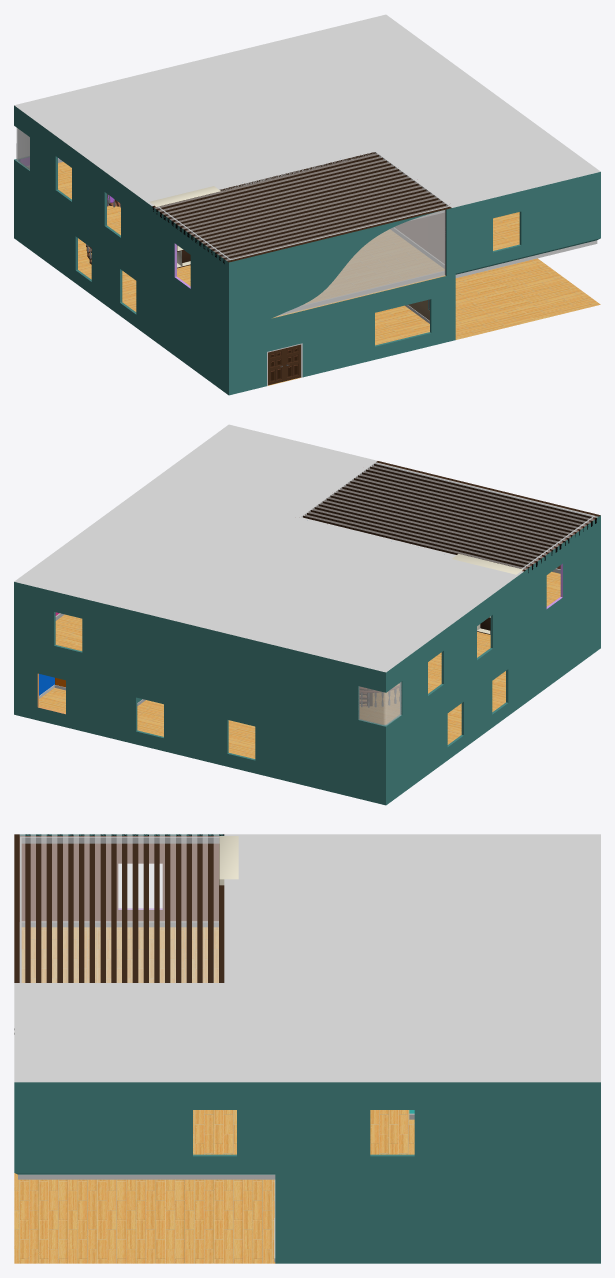
Rendered from ENV.fbx.
3 renders of one model, top to bottom at view 1: azimuth 30°, elevation 25°; view 2: azimuth 150°, elevation 25°; view 3: azimuth 270°, elevation 25°, orthographic. The views are drawn at different scales.
Visible parts, largest first — view 1: Roof, 1st_Floor_Outer_Wall, 2nd_Floor_Outer_Wall, Ground, 2nd_Floor_Window, Wall_23, 2nd_Floor_Cilling_04, 2nd_Floor_Cilling_01, Wall_21, 1ST_Floor_Cilling_04, Main_Door_Left, Main_Door_Right; view 2: Roof, 1st_Floor_Outer_Wall, 2nd_Floor_Outer_Wall, Ground, Round_Window, 2nd_Floor_Cilling_01, Wall_21; view 3: Roof, 2nd_Floor_Outer_Wall, 1st_Floor_Outer_Wall, Ground, 2nd_Floor_Cilling_01, 1ST_Floor_Cilling_04, Wall_21, 2nd_Floor_Cilling_04.
Part boxes in pixels (x1,y1,x2,y2): Roof: [14, 14, 600, 263]; 1st_Floor_Outer_Wall: [14, 162, 600, 395]; 2nd_Floor_Outer_Wall: [14, 105, 600, 328]; Ground: [78, 238, 600, 385]; 2nd_Floor_Window: [275, 210, 445, 317]; Wall_23: [395, 213, 444, 263]; 2nd_Floor_Cilling_04: [281, 228, 444, 314]; 2nd_Floor_Cilling_01: [157, 152, 449, 260]; Wall_21: [149, 186, 220, 268]; 1ST_Floor_Cilling_04: [455, 240, 597, 278]; Main_Door_Left: [284, 344, 300, 381]; Main_Door_Right: [268, 348, 284, 385]; Roof: [14, 424, 600, 672]; 1st_Floor_Outer_Wall: [14, 571, 600, 805]; 2nd_Floor_Outer_Wall: [14, 515, 600, 738]; Ground: [39, 671, 505, 758]; Round_Window: [358, 682, 401, 725]; 2nd_Floor_Cilling_01: [303, 462, 595, 569]; Wall_21: [452, 554, 522, 634]; Roof: [14, 834, 600, 1082]; 2nd_Floor_Outer_Wall: [14, 834, 600, 1172]; 1st_Floor_Outer_Wall: [15, 927, 600, 1263]; Ground: [14, 1173, 275, 1263]; 2nd_Floor_Cilling_01: [20, 836, 219, 982]; 1ST_Floor_Cilling_04: [18, 1174, 275, 1179]; Wall_21: [219, 836, 238, 885]; 2nd_Floor_Cilling_04: [19, 921, 414, 1119].
Bounding box in the file's own units: 2500 × 855 × 2502.
